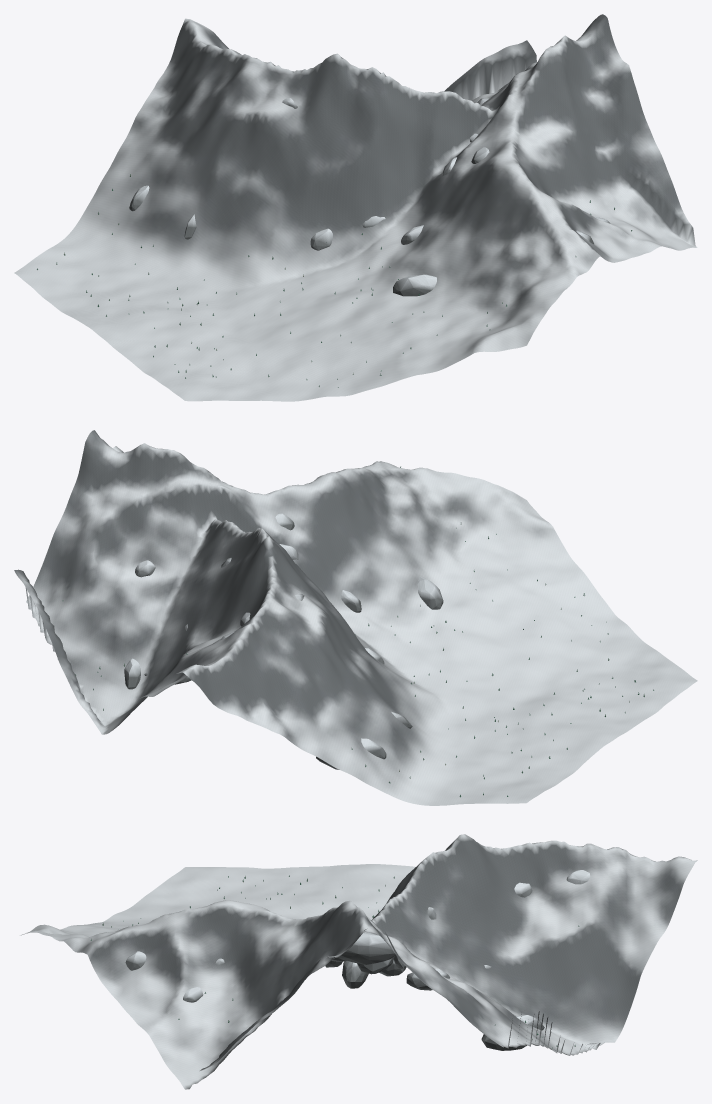
The picture shows the model from 3 angles, top to bottom: view 1: azimuth 30°, elevation 25°; view 2: azimuth 150°, elevation 25°; view 3: azimuth 270°, elevation 25°; orthographic projection.
Visible parts, largest first — view 1: terrain_v10, supported_bedrock; view 2: terrain_v10, supported_bedrock; view 3: terrain_v10, supported_bedrock.
Part boxes in pixels (x1=…): terrain_v10: x1=14, y1=14, x2=697, y2=401; supported_bedrock: x1=129, y1=98, x2=610, y2=296; terrain_v10: x1=14, y1=430, x2=697, y2=805; supported_bedrock: x1=124, y1=513, x2=443, y2=769; terrain_v10: x1=20, y1=834, x2=697, y2=1089; supported_bedrock: x1=125, y1=870, x2=590, y2=1050.
Bounding box in the file's own units: 4330 × 1573 × 5000.
3 materials, 2 textured.
